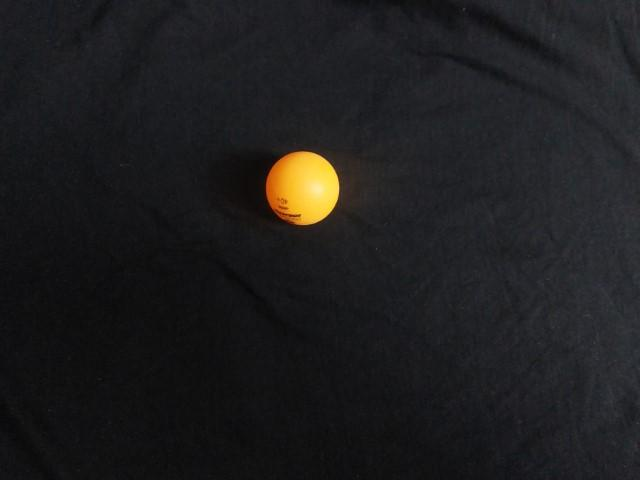oball: (259, 146, 345, 232)
